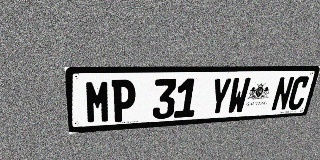1: (174, 78, 199, 118)
3: (152, 79, 177, 120)
C: (286, 76, 311, 110)
M: (84, 80, 111, 124)
N: (270, 76, 295, 111)
P: (111, 79, 136, 122)
W: (226, 77, 251, 114)
Y: (207, 78, 232, 116)
